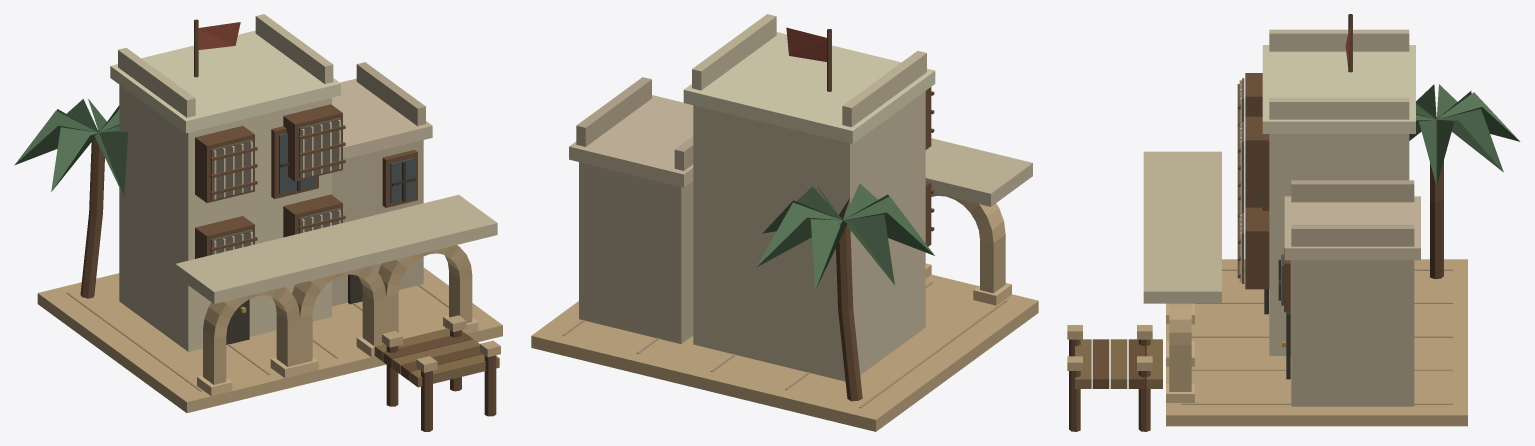
3 renders of one model, left to right at view 1: azimuth 30°, elevation 25°; view 2: azimuth 150°, elevation 25°; view 3: azimuth 270°, elevation 25°, orthographic. The views are drawn at different scales.
Visible parts, largest first — view 1: S24_吉达 · 红海商馆; view 2: S24_吉达 · 红海商馆; view 3: S24_吉达 · 红海商馆.
Part boxes in pixels (<box>): S24_吉达 · 红海商馆: <box>14,14,502,431</box>; S24_吉达 · 红海商馆: <box>531,14,1038,431</box>; S24_吉达 · 红海商馆: <box>1067,14,1520,431</box>.
Size of the model in its own units: 3.51 by 3.32 by 4.05.
